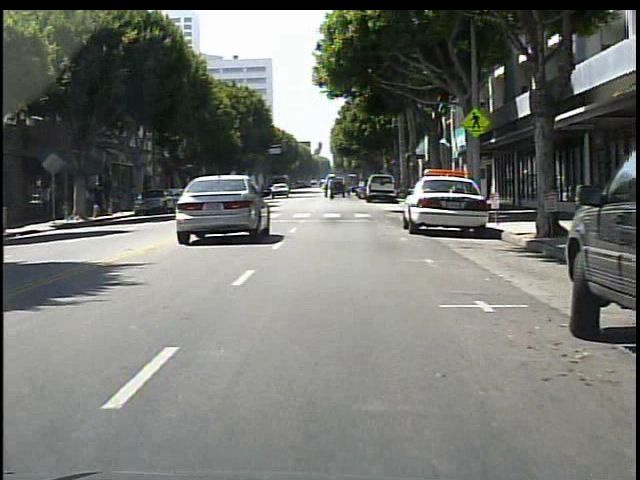person: (94, 183, 108, 219), (42, 182, 53, 219), (86, 186, 96, 218), (331, 177, 332, 199)
